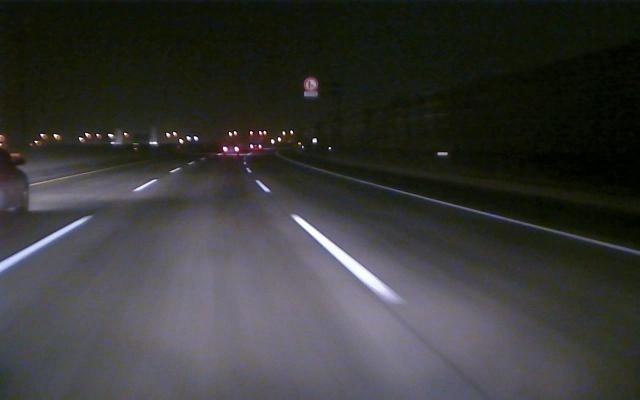lane: (315, 169, 637, 256), (253, 178, 406, 308), (1, 181, 150, 272)
